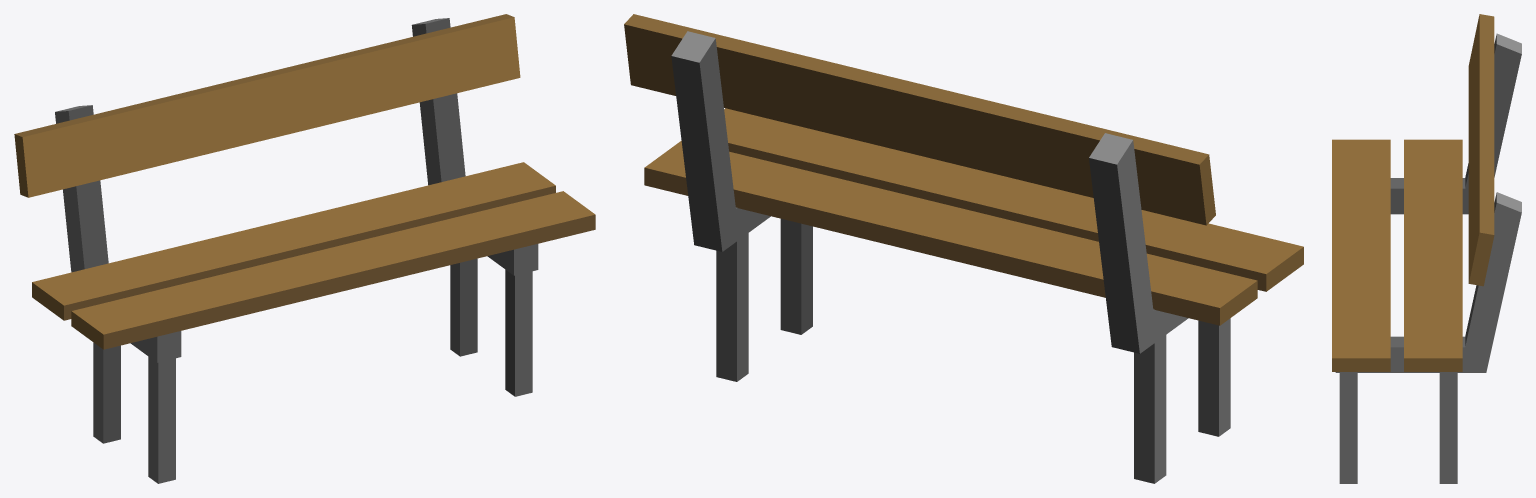
File: SM_Bench_Small_01.fbx
The picture shows the model from 3 angles, left to right: view 1: azimuth 30°, elevation 25°; view 2: azimuth 150°, elevation 25°; view 3: azimuth 270°, elevation 25°; orthographic projection. The views are drawn at different scales.
Visible parts, largest first — view 1: SM_Bench_Small_01; view 2: SM_Bench_Small_01; view 3: SM_Bench_Small_01.
Boxes of the visible parts, x1=… form: SM_Bench_Small_01: x1=14, y1=14, x2=595, y2=483; SM_Bench_Small_01: x1=624, y1=14, x2=1303, y2=483; SM_Bench_Small_01: x1=1332, y1=14, x2=1521, y2=483.
Bounding box in the file's own units: 3.16 × 1.9 × 1.16.
